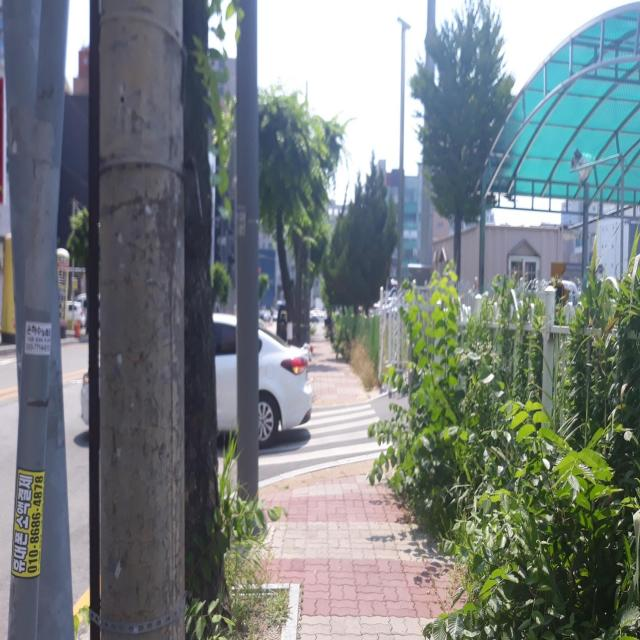횡단보도: (257, 403, 396, 467)
